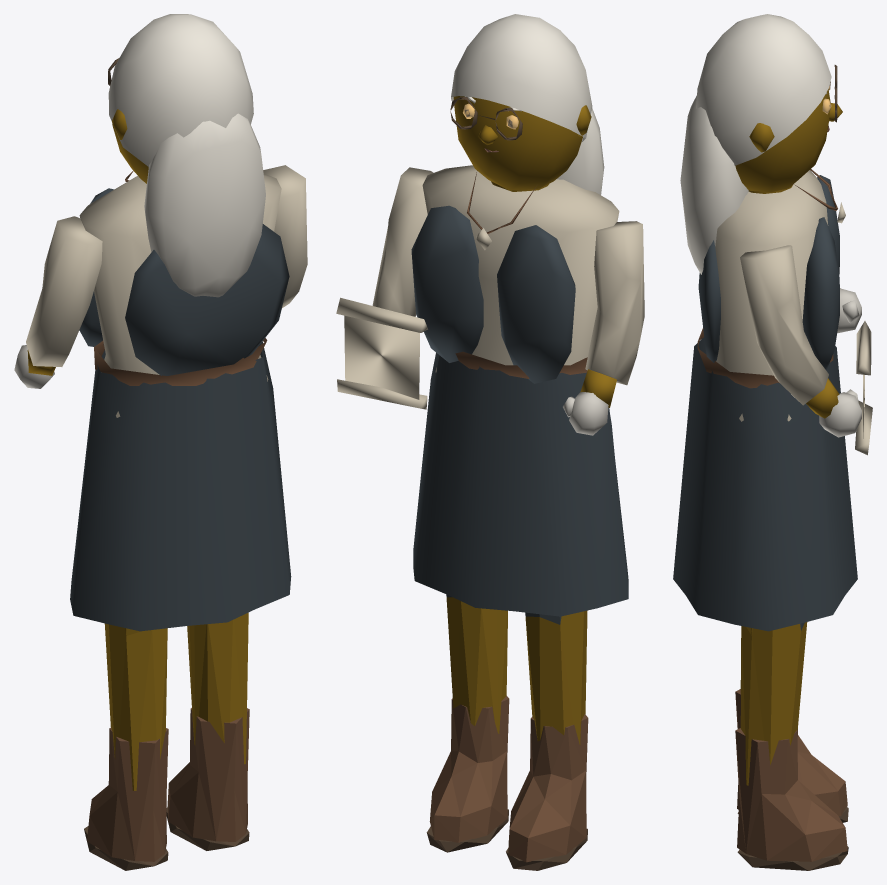
Rendered from SM_NPC_VULCANIA_MEDIA.glb.
3 views of the same model, side by side, from view 1: azimuth 30°, elevation 25°; view 2: azimuth 150°, elevation 25°; view 3: azimuth 270°, elevation 25° (orthographic). The views are drawn at different scales.
Parts seen in each view (by area): view 1: SM_NPC_VULCANIA_BODY, SM_NPC_VULCANIA_HEAD, SM_NPC_VULCANIA_ARM_L, SM_NPC_VULCANIA_ARM_R; view 2: SM_NPC_VULCANIA_BODY, SM_NPC_VULCANIA_HEAD, SM_NPC_VULCANIA_ARM_R, SM_NPC_VULCANIA_ARM_L; view 3: SM_NPC_VULCANIA_BODY, SM_NPC_VULCANIA_HEAD, SM_NPC_VULCANIA_ARM_R, SM_NPC_VULCANIA_ARM_L.
Part boxes in pixels (x1,y1,x2,y2): SM_NPC_VULCANIA_BODY: (70, 170, 291, 870); SM_NPC_VULCANIA_HEAD: (108, 14, 265, 297); SM_NPC_VULCANIA_ARM_L: (14, 216, 102, 388); SM_NPC_VULCANIA_ARM_R: (263, 165, 307, 307); SM_NPC_VULCANIA_BODY: (411, 165, 628, 870); SM_NPC_VULCANIA_HEAD: (450, 14, 604, 194); SM_NPC_VULCANIA_ARM_R: (336, 167, 433, 409); SM_NPC_VULCANIA_ARM_L: (563, 221, 644, 435); SM_NPC_VULCANIA_BODY: (673, 169, 857, 870); SM_NPC_VULCANIA_HEAD: (680, 14, 842, 274); SM_NPC_VULCANIA_ARM_R: (740, 245, 872, 455); SM_NPC_VULCANIA_ARM_L: (837, 288, 861, 333).
Bounding box in the file's own units: 0.612 × 1.81 × 0.4011.
